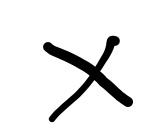mult: (43, 35, 134, 122)
